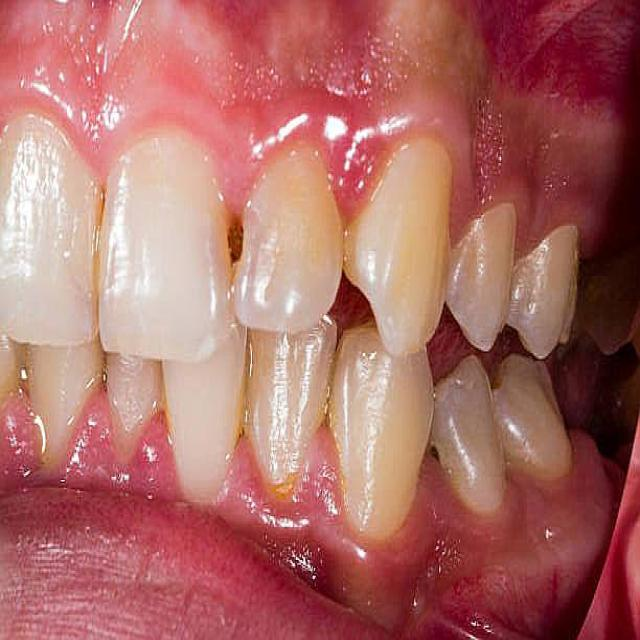caries: (201, 197, 270, 293), (418, 422, 457, 478)
